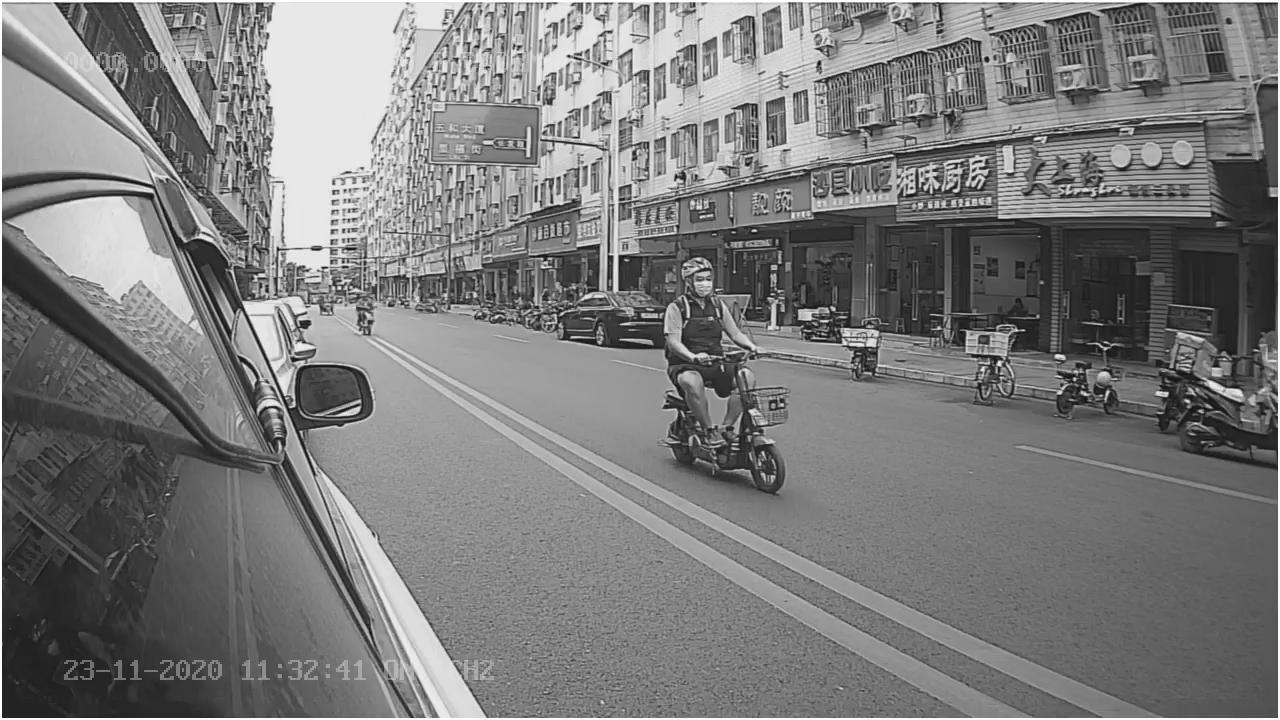person: (663, 250, 756, 361)
